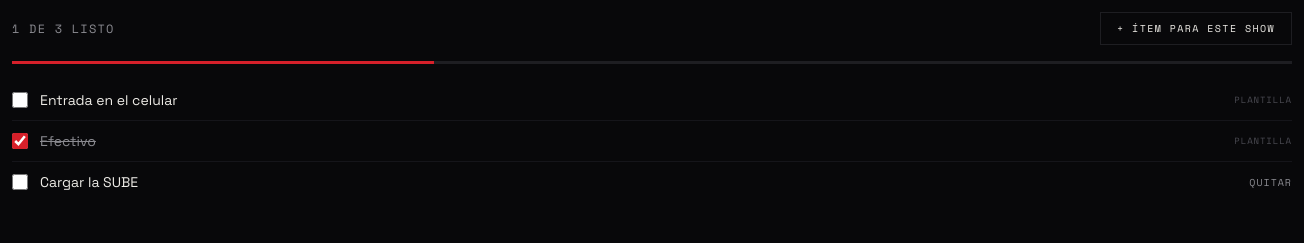
Test case: PreShowChecklist › revierte el tilde y muestra el error si la action falla
Click the checkbox labelled "Entrada en el celular" at (20, 100), box x1=12 y1=92 x2=28 y2=108
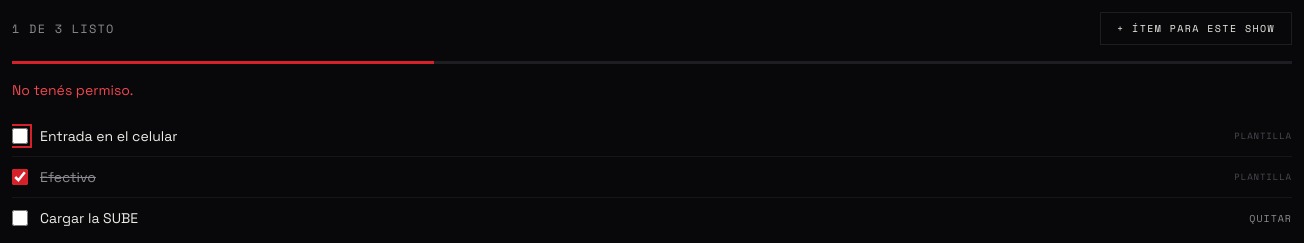
Expected: the checkbox labelled "Entrada en el celular" is not checked, x1=12 y1=128 x2=28 y2=144
Expected: the message reads "No tenés permiso.", x1=12 y1=81 x2=133 y2=99
